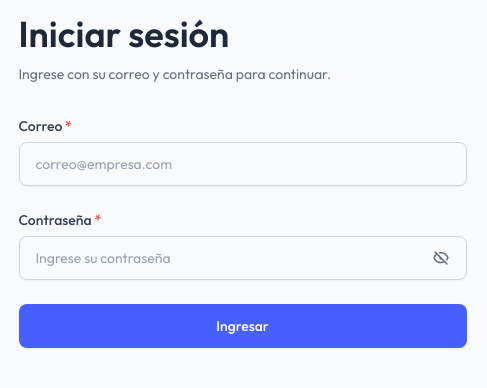
Test: SignInForm › con un correo mal escrito avisa y no envía; el aviso se va al corregirlo
The image size is (487, 388).
Type "admin@mollendo" into the field with placeholder "correo@empresa.com" at (242, 164), box x1=18 y1=142 x2=466 y2=186
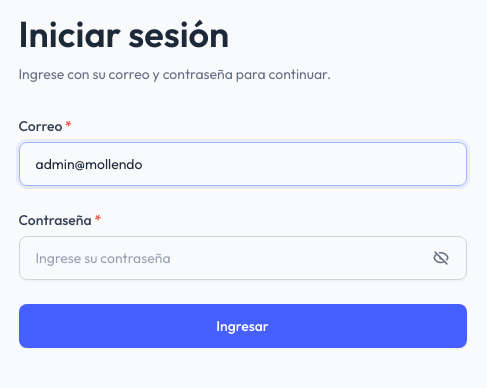
Type "Clave-123" into the password field with placeholder "Ingrese su contraseña" at (242, 258), box x1=18 y1=236 x2=466 y2=280
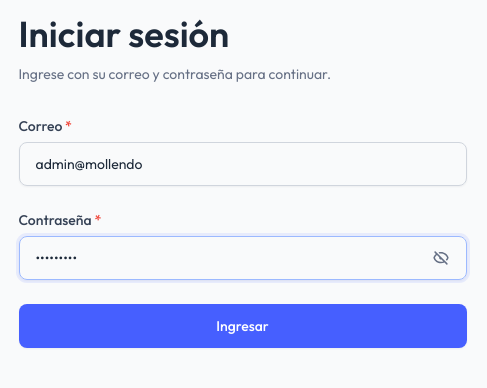
Click the button "Ingresar" at (242, 326), box x1=18 y1=304 x2=466 y2=348
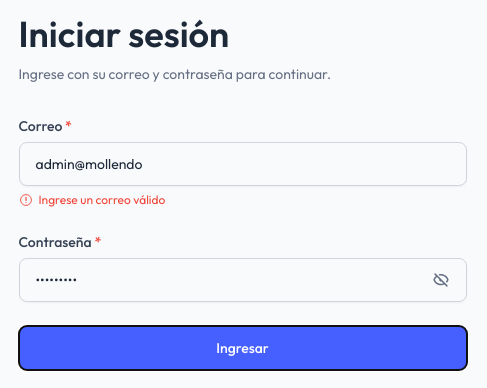
Expected: the text "Ingrese un correo válido" is shown, x1=18 y1=192 x2=165 y2=207
Type ".pe" into the field with placeholder "correo@empresa.com" at (242, 164), box x1=18 y1=142 x2=466 y2=186
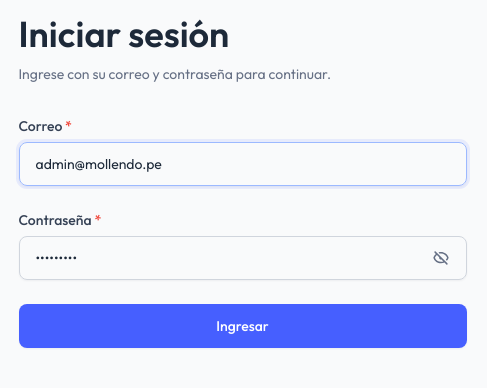
Expected: the text "Ingrese un correo válido" is gone
